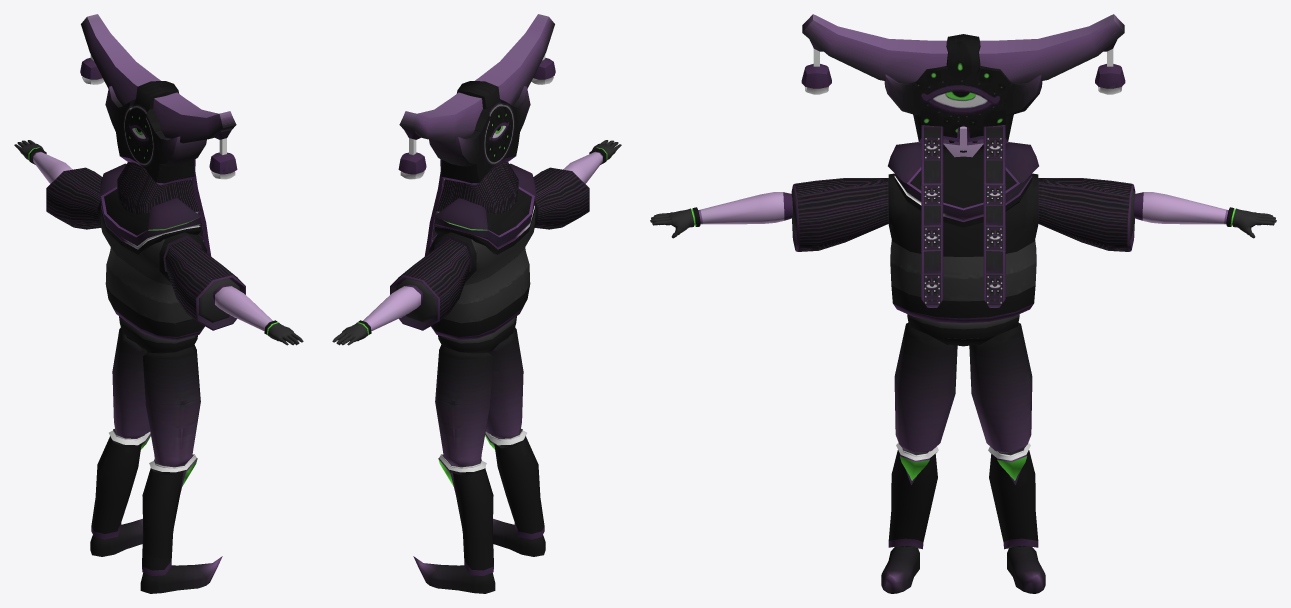
File: olho_invocador.glb
3 renders of one model, left to right at view 1: azimuth 30°, elevation 25°; view 2: azimuth 150°, elevation 25°; view 3: azimuth 270°, elevation 25°, orthographic. The views are drawn at different scales.
Visible parts, largest first — view 1: _100Avatars_149_EYESummoner; view 2: _100Avatars_149_EYESummoner; view 3: _100Avatars_149_EYESummoner.
Boxes of the visible parts, x1,y1,x2,y2 form: _100Avatars_149_EYESummoner: (14,14,303,593); _100Avatars_149_EYESummoner: (332,14,621,593); _100Avatars_149_EYESummoner: (650,14,1276,593).
Bounding box in the file's own units: 0.8029 × 4.72 × 4.74.
Materials: 1 (1 with a texture image).
